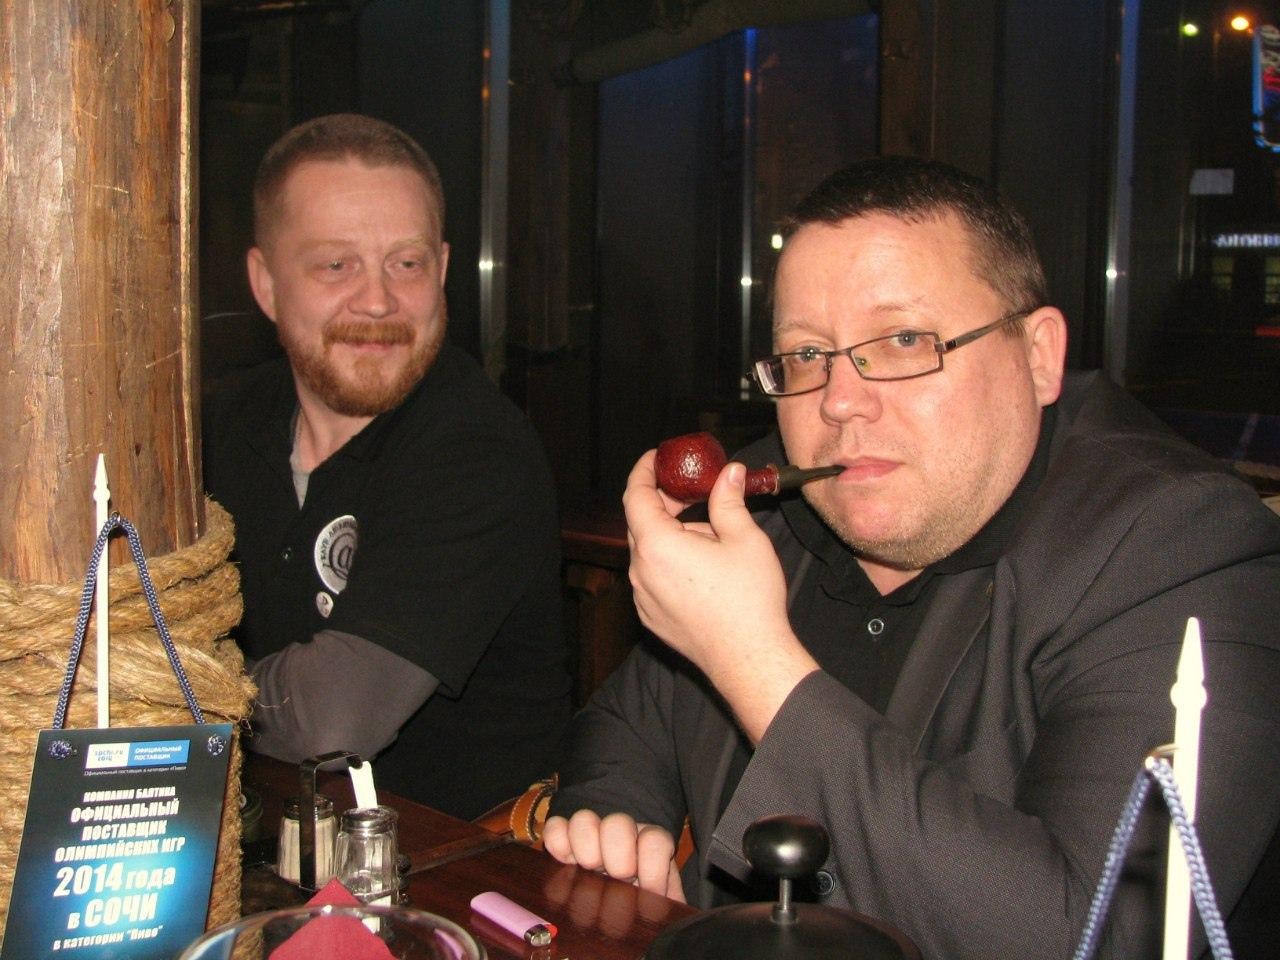trubka: (653, 430, 847, 504)
